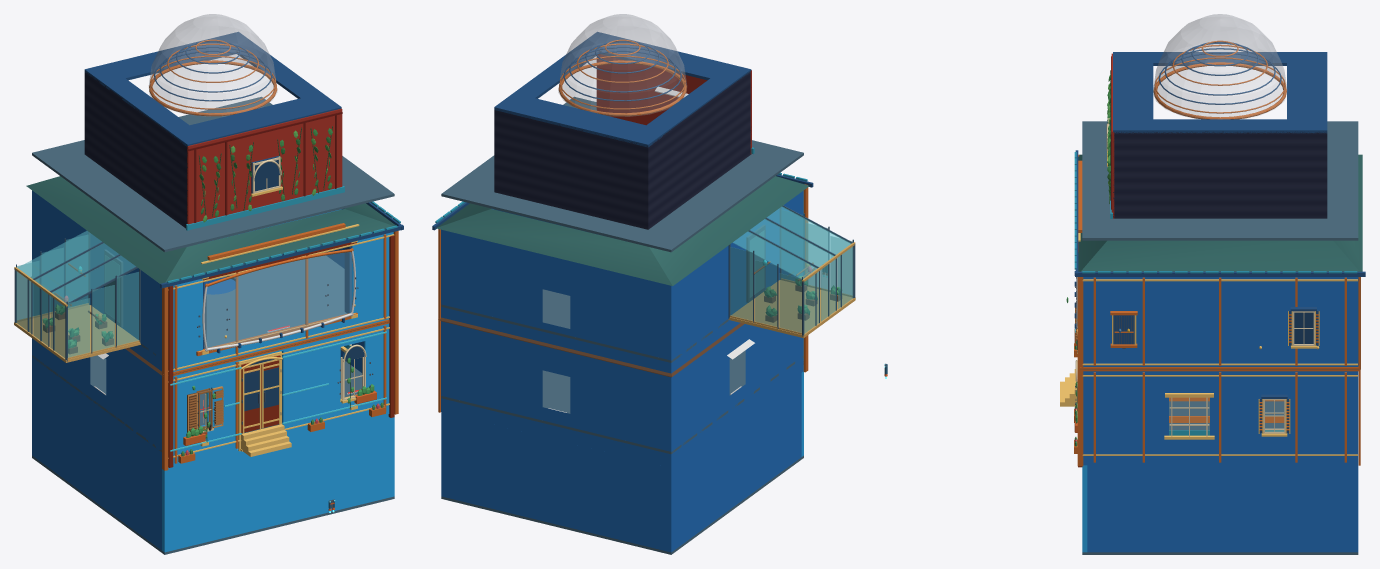
The model's file is exterior-home-CgYf8Iod.glb.
3 renders of one model, left to right at view 1: azimuth 30°, elevation 25°; view 2: azimuth 150°, elevation 25°; view 3: azimuth 270°, elevation 25°, orthographic. The views are drawn at different scales.
Parts seen in each view (by area): view 1: INT_Foundation_Front, WallFront, WallLeft, INT_Foundation_Left, ObsDome, INT_Slab_Observatory, ObsFront, RoofMain, CUTAWAY_UpperOpening_Glass, ObsLeft, INT_Slab_Kitchen, EXT_ObservatoryRoof_Front (+40 smaller); view 2: WallBack, INT_Foundation_Back, WallLeft, ObsBack, RoofMain, INT_Foundation_Left, ObsDome, INT_Slab_Observatory, ObsLeft, ObsFront, EXT_ObservatoryRoof_Back, AVIARY_Left_Floor (+24 smaller); view 3: WallRight, INT_Foundation_Right, ObsRight, INT_Slab_Observatory, ObsDome, RoofMain, EXT_ObservatoryRoof_Back, EXT_ObservatoryRoof_Front, EXT_ObservatoryRoof_Right, EXT_ObservatoryRoof_Left, EXT_Belt_Right, CUTAWAY_CornerSoft_1 (+8 smaller).
Part boxes in pixels (x1,y1,x2,y2): INT_Foundation_Front: (162,414,394,552); WallFront: (173,232,393,466); WallLeft: (32,190,161,465); INT_Foundation_Left: (34,373,161,550); ObsDome: (148,14,277,116); INT_Slab_Observatory: (32,96,394,252); ObsFront: (187,108,342,224); RoofMain: (26,176,395,283); CUTAWAY_UpperOpening_Glass: (207,252,351,347); ObsLeft: (84,71,187,228); INT_Slab_Kitchen: (35,255,346,359); EXT_ObservatoryRoof_Front: (168,93,341,146); WallBack: (442,230,671,467); INT_Foundation_Back: (441,412,673,552); WallLeft: (671,191,803,467); ObsBack: (494,110,648,229); RoofMain: (436,176,809,285); INT_Foundation_Left: (673,373,801,550); ObsDome: (558,14,686,116); INT_Slab_Observatory: (441,96,803,252); ObsLeft: (648,71,751,229); ObsFront: (596,54,751,153); EXT_ObservatoryRoof_Back: (494,93,667,147); AVIARY_Left_Floor: (728,280,855,338); WallRight: (1083,277,1358,465); INT_Foundation_Right: (1087,465,1352,552); ObsRight: (1113,131,1327,218); INT_Slab_Observatory: (1082,121,1358,240); ObsDome: (1153,14,1287,119); RoofMain: (1078,154,1362,271); EXT_ObservatoryRoof_Back: (1287,52,1327,133); EXT_ObservatoryRoof_Front: (1113,52,1153,133); EXT_ObservatoryRoof_Right: (1153,119,1286,133); EXT_ObservatoryRoof_Left: (1153,52,1286,65); EXT_Belt_Right: (1083,367,1358,371); CUTAWAY_CornerSoft_1: (1077,277,1083,466).
Size of the model in its own units: 25.8 by 35.89 by 32.78.
